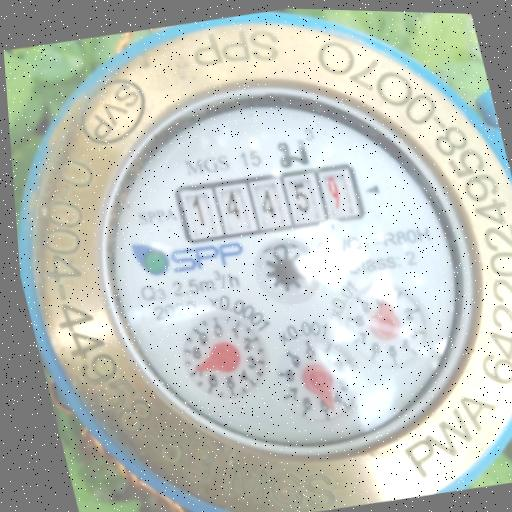1: (185, 193, 216, 237)
4: (254, 183, 284, 229), (218, 188, 249, 232)
5: (289, 179, 318, 222)
9: (323, 173, 353, 216)
border_water_meter_number: (171, 155, 369, 250)
